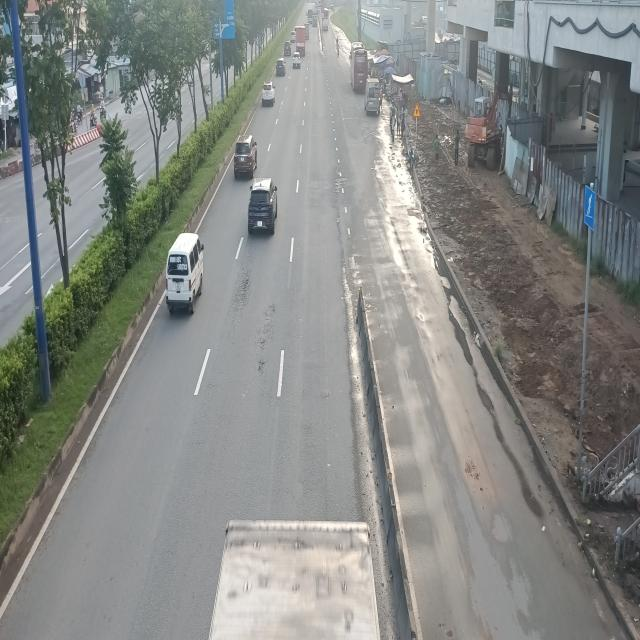car: (248, 179, 280, 236), (234, 136, 259, 179)
coach: (350, 46, 370, 93)
van: (167, 232, 206, 312), (365, 77, 381, 117)
